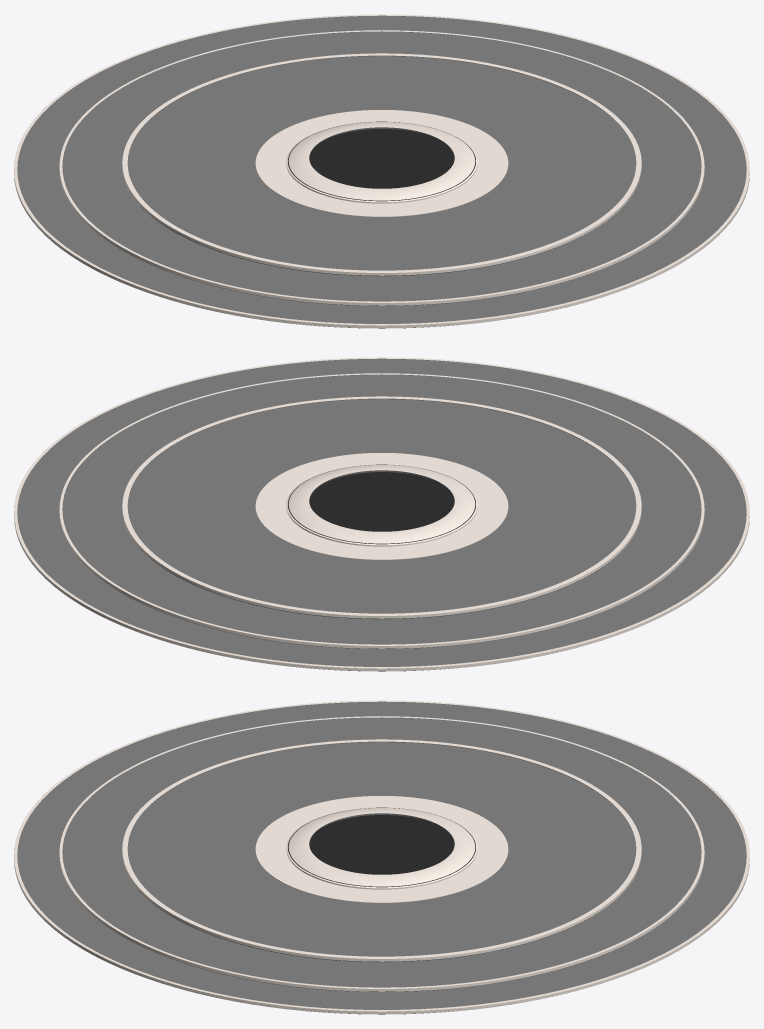
Rendered from MOb_Floor_add_02.fbx.
3 views of the same model, one above another, from view 1: azimuth 30°, elevation 25°; view 2: azimuth 150°, elevation 25°; view 3: azimuth 270°, elevation 25° (orthographic).
Parts seen in each view (by area): view 1: MOb_Floor_add_02; view 2: MOb_Floor_add_02; view 3: MOb_Floor_add_02.
Part boxes in pixels (x1,y1,x2,y2): MOb_Floor_add_02: (14, 14, 749, 328); MOb_Floor_add_02: (14, 357, 749, 671); MOb_Floor_add_02: (14, 700, 749, 1014).
Bounding box in the file's own units: 29.58 × 29.58 × 0.6761.
Materials: 2 (1 with a texture image).
